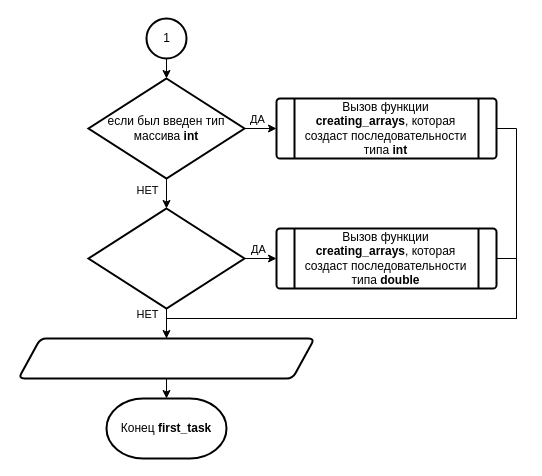
Image size: 542x476. Some labels were removed from this diagram. The shapes that lost their labels are listed below. From the top down, each one's centre as x and y in pixels, then its label:
point 166,258: если был введен тип массива double
point 166,358: "== КОНЕЦ ПЕРВОГО ЭТАПА ==\n\n"
